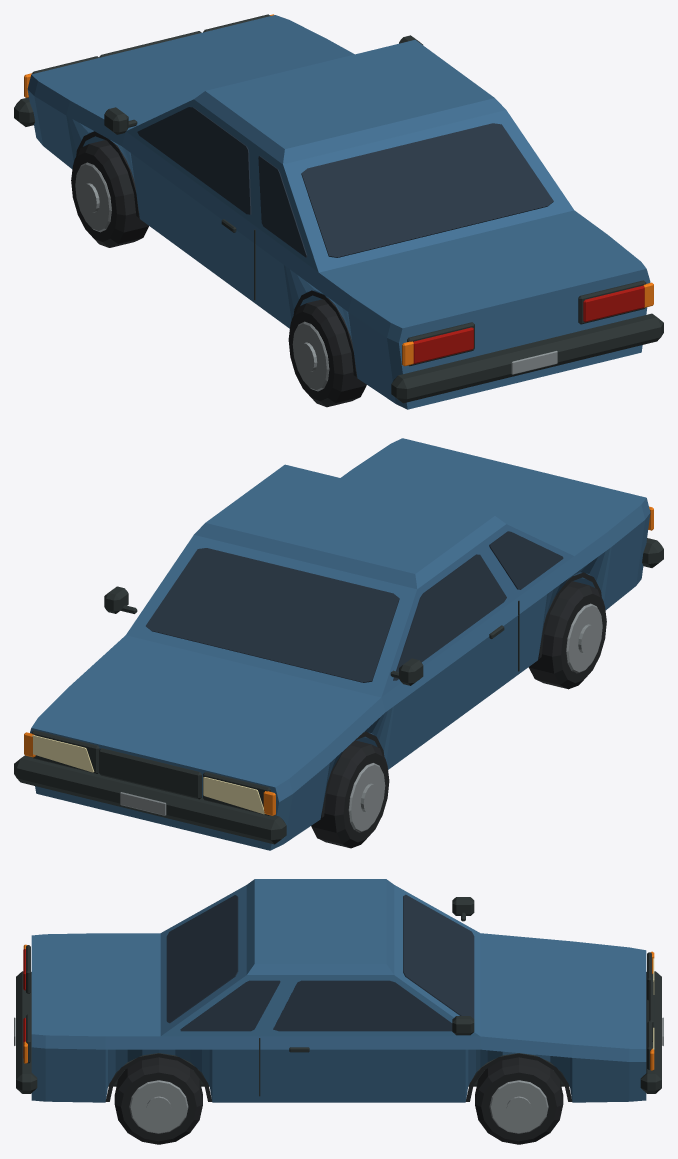
File: 04_Coupe.fbx
3 views of the same model, one above another, from view 1: azimuth 30°, elevation 25°; view 2: azimuth 150°, elevation 25°; view 3: azimuth 270°, elevation 25° (orthographic). The views are drawn at different scales.
Parts seen in each view (by area): view 1: Continuous body with open wheel arches.003, Raked cabin with chamfered roof.003, Framed rear windshield.003, Moulded bumper.007, Side glass -1 pane 1.003, WheelFL_ShapedSidewall.003, WheelRL_ShapedSidewall.003, Side glass -1 pane 0.003, WheelFL_Rim.003, WheelRL_Rim.003, Tail lamp.007, Tail lamp.006 (+2 smaller); view 2: Continuous body with open wheel arches.003, Raked cabin with chamfered roof.003, Framed opaque windshield.003, Moulded bumper.006, Side glass -1 pane 1.003, WheelRL_ShapedSidewall.003, WheelFL_ShapedSidewall.003, Inset radiator grille.003, Side glass -1 pane 0.003, WheelRL_Rim.003, WheelFL_Rim.003, Swept front headlamp (+4 smaller); view 3: Continuous body with open wheel arches.003, Raked cabin with chamfered roof.003, Side glass 1 pane 1.003, Framed rear windshield.003, Framed opaque windshield.003, WheelFR_ShapedSidewall.003, WheelRR_ShapedSidewall.003, Side glass 1 pane 0.003, WheelFR_Rim.003, WheelRR_Rim.003, Moulded bumper.007, Moulded bumper.006 (+7 smaller).
Part boxes in pixels (x1=…): Continuous body with open wheel arches.003: x1=27, y1=15, x2=650, y2=409; Raked cabin with chamfered roof.003: x1=126, y1=39, x2=573, y2=272; Framed rear windshield.003: x1=301, y1=123, x2=553, y2=257; Moulded bumper.007: x1=391, y1=313, x2=663, y2=403; Side glass -1 pane 1.003: x1=137, y1=107, x2=251, y2=214; WheelFL_ShapedSidewall.003: x1=71, y1=140, x2=148, y2=247; WheelRL_ShapedSidewall.003: x1=288, y1=298, x2=366, y2=407; Side glass -1 pane 0.003: x1=258, y1=156, x2=307, y2=257; WheelFL_Rim.003: x1=75, y1=162, x2=111, y2=232; WheelRL_Rim.003: x1=292, y1=321, x2=329, y2=391; Tail lamp.007: x1=583, y1=285, x2=644, y2=322; Tail lamp.006: x1=413, y1=327, x2=473, y2=363; Continuous body with open wheel arches.003: x1=30, y1=438, x2=650, y2=850; Raked cabin with chamfered roof.003: x1=126, y1=464, x2=573, y2=697; Framed opaque windshield.003: x1=146, y1=548, x2=399, y2=682; Moulded bumper.006: x1=14, y1=755, x2=286, y2=844; Side glass -1 pane 1.003: x1=393, y1=554, x2=506, y2=680; WheelRL_ShapedSidewall.003: x1=528, y1=580, x2=606, y2=689; WheelFL_ShapedSidewall.003: x1=311, y1=740, x2=389, y2=848; Inset radiator grille.003: x1=99, y1=748, x2=201, y2=799; Side glass -1 pane 0.003: x1=489, y1=531, x2=563, y2=589; WheelRL_Rim.003: x1=566, y1=603, x2=602, y2=673; WheelFL_Rim.003: x1=348, y1=763, x2=385, y2=832; Swept front headlamp: x1=203, y1=777, x2=264, y2=814; Continuous body with open wheel arches.003: x1=31, y1=933, x2=646, y2=1102; Raked cabin with chamfered roof.003: x1=160, y1=879, x2=480, y2=1036; Side glass 1 pane 1.003: x1=273, y1=980, x2=452, y2=1031; Framed rear windshield.003: x1=166, y1=895, x2=238, y2=1023; Framed opaque windshield.003: x1=403, y1=894, x2=474, y2=1018; WheelFR_ShapedSidewall.003: x1=475, y1=1057, x2=563, y2=1144; WheelRR_ShapedSidewall.003: x1=114, y1=1057, x2=202, y2=1144; Side glass 1 pane 0.003: x1=180, y1=980, x2=280, y2=1031; WheelFR_Rim.003: x1=489, y1=1080, x2=548, y2=1133; WheelRR_Rim.003: x1=129, y1=1080, x2=188, y2=1133; Moulded bumper.007: x1=16, y1=971, x2=37, y2=1093; Moulded bumper.006: x1=640, y1=971, x2=661, y2=1093.
Size of the model in its own units: 208 by 132 by 457.
